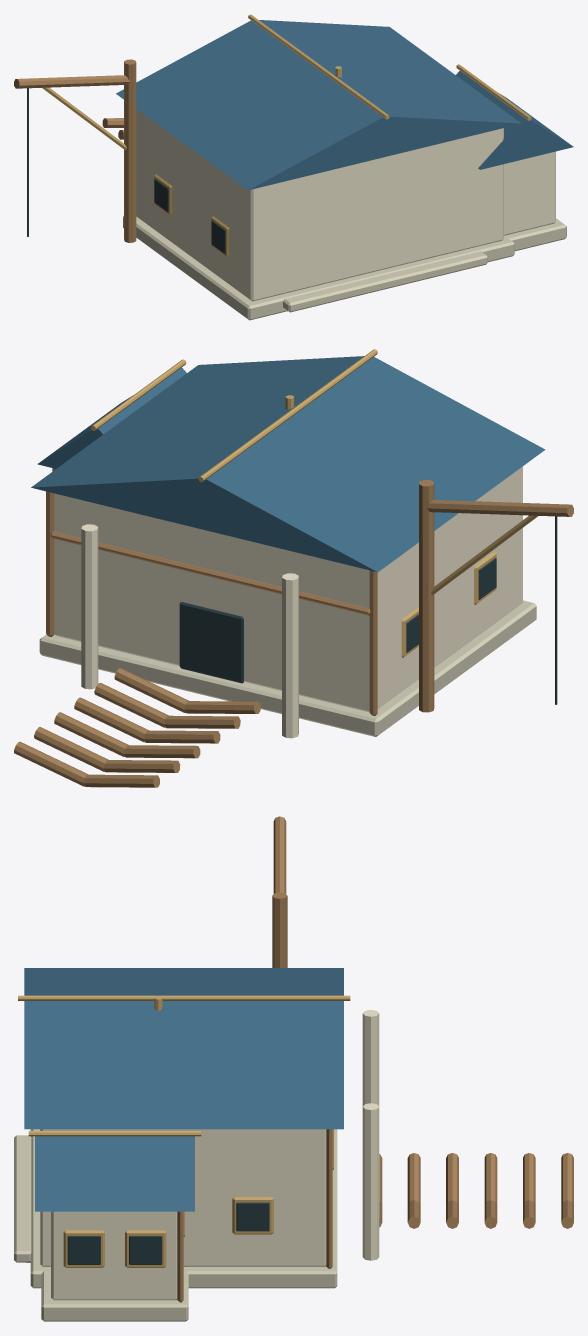
The model's file is level_20.glb.
The picture shows the model from 3 angles, top to bottom: view 1: azimuth 30°, elevation 25°; view 2: azimuth 150°, elevation 25°; view 3: azimuth 270°, elevation 25°; orthographic projection. The views are drawn at different scales.
Parts seen in each view (by area): view 1: shipyard — level 20; view 2: shipyard — level 20; view 3: shipyard — level 20.
Boxes of the visible parts, x1,y1,x2,y2 form: shipyard — level 20: (14,14,573,320); shipyard — level 20: (14,349,573,787); shipyard — level 20: (14,816,573,1321).
Size of the model in its own units: 9.97 by 4.16 by 8.76.
